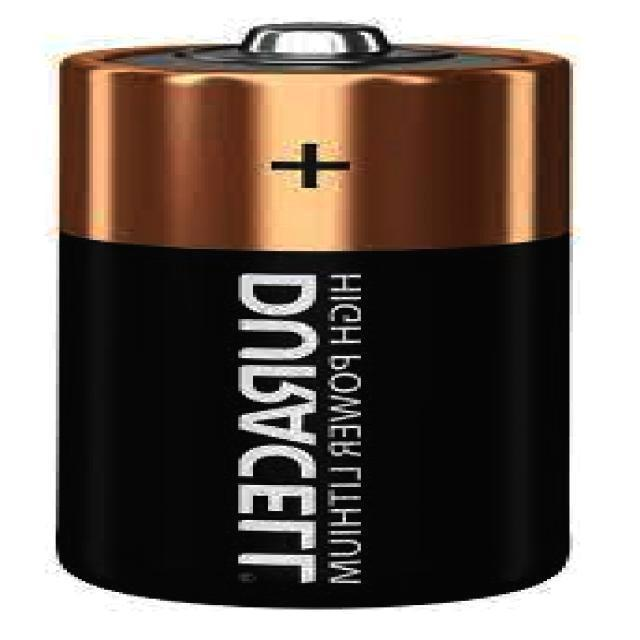battery: (52, 22, 572, 611)
